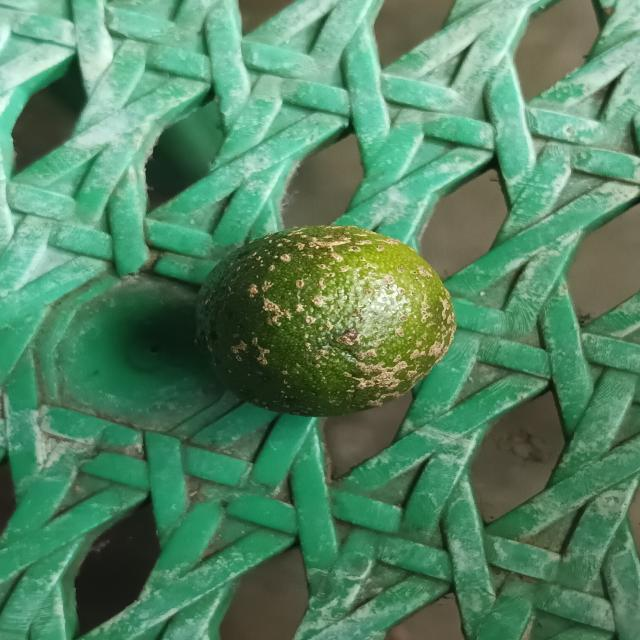scab: (189, 218, 461, 420)
